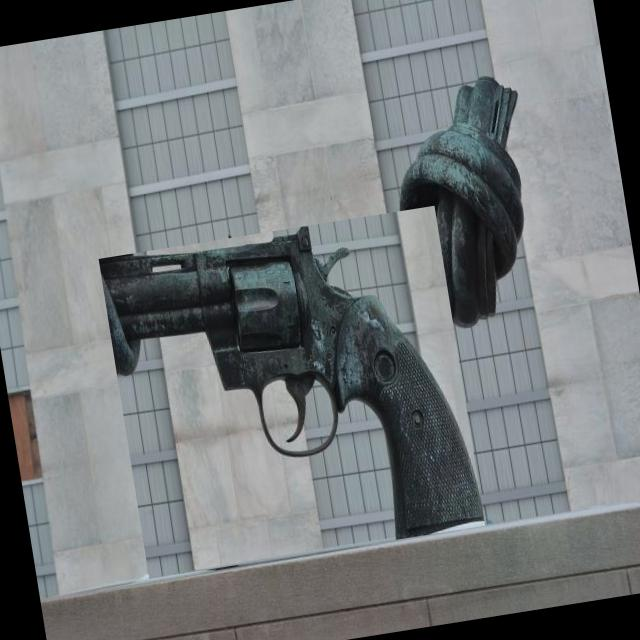Gun: (100, 227, 484, 539)
